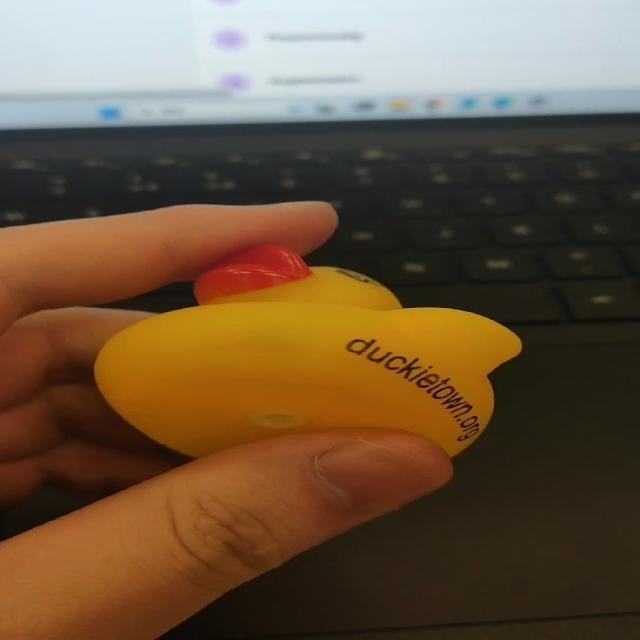rubber-duck: (94, 244, 520, 454)
